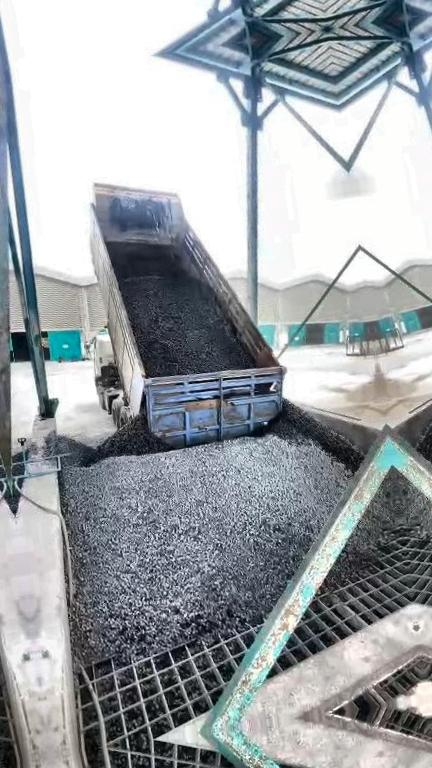gravel: (42, 402, 362, 664), (107, 244, 252, 376), (327, 474, 400, 584)
sand: (316, 373, 386, 426)
